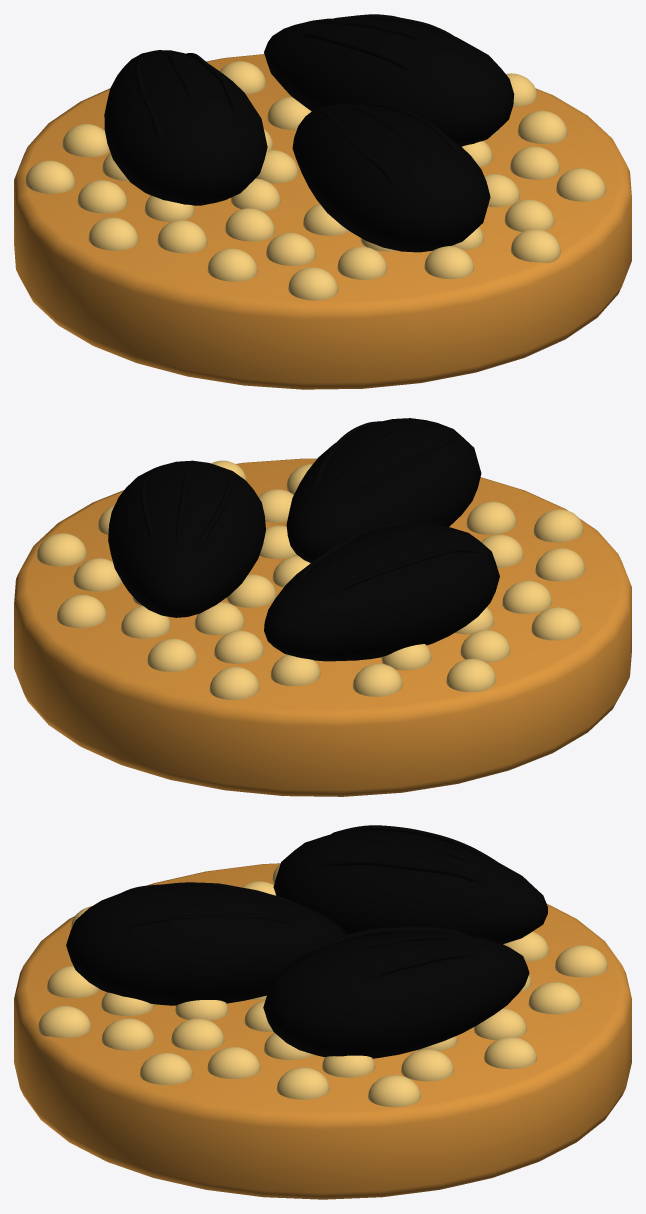
The model's file is Menu_AlmondCookie.fbx.
The picture shows the model from 3 angles, top to bottom: view 1: azimuth 30°, elevation 25°; view 2: azimuth 150°, elevation 25°; view 3: azimuth 270°, elevation 25°; orthographic projection.
Visible parts, largest first — view 1: Menu_AlmondCookie.001; view 2: Menu_AlmondCookie.001; view 3: Menu_AlmondCookie.001.
Part boxes in pixels (x1,y1,x2,y2): Menu_AlmondCookie.001: (14,14,631,389); Menu_AlmondCookie.001: (14,418,631,796); Menu_AlmondCookie.001: (14,825,631,1199).
Bounding box in the file's own units: 57.48 × 19.03 × 57.48.
